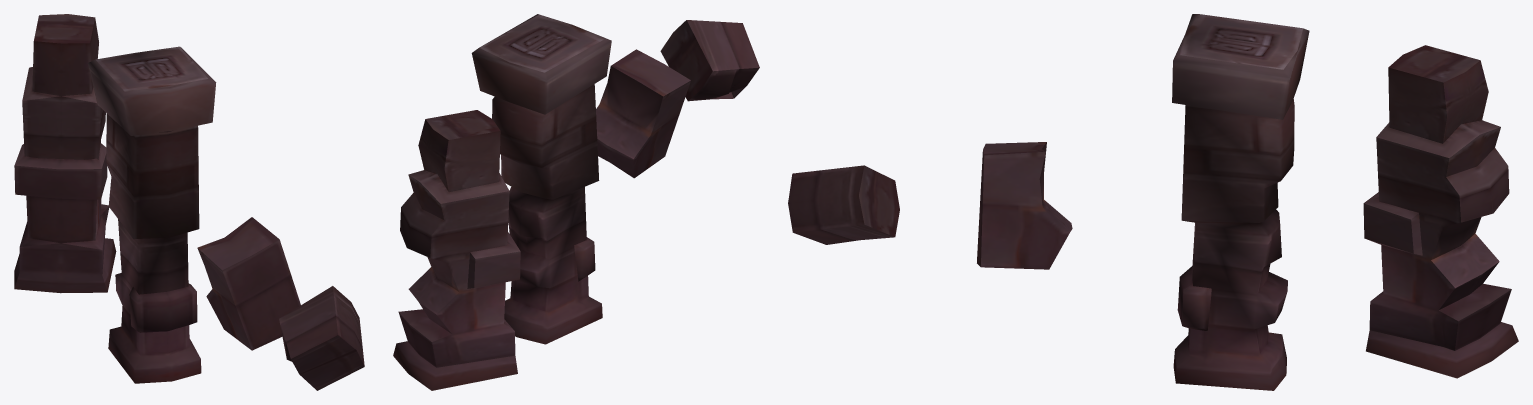
The model's file is FB6_shamozhuzi02.FBX.
3 renders of one model, left to right at view 1: azimuth 30°, elevation 25°; view 2: azimuth 150°, elevation 25°; view 3: azimuth 270°, elevation 25°, orthographic. The views are drawn at different scales.
Parts seen in each view (by area): view 1: FB6_shamozhuzi02_001, FB6_shamozhuzi02_002, FB6_shamozhuzi02_003, FB6_shamozhuzi02_004; view 2: FB6_shamozhuzi02_001, FB6_shamozhuzi02_002, FB6_shamozhuzi02_003, FB6_shamozhuzi02_004; view 3: FB6_shamozhuzi02_001, FB6_shamozhuzi02_002, FB6_shamozhuzi02_003, FB6_shamozhuzi02_004.
Boxes of the visible parts, left/top/right/bottom form: FB6_shamozhuzi02_001: left=87, top=46, right=216, bottom=383; FB6_shamozhuzi02_002: left=14, top=14, right=116, bottom=293; FB6_shamozhuzi02_003: left=197, top=217, right=300, bottom=350; FB6_shamozhuzi02_004: left=279, top=286, right=364, bottom=390; FB6_shamozhuzi02_001: left=471, top=14, right=611, bottom=344; FB6_shamozhuzi02_002: left=393, top=110, right=520, bottom=390; FB6_shamozhuzi02_003: left=596, top=49, right=690, bottom=178; FB6_shamozhuzi02_004: left=660, top=20, right=759, bottom=101; FB6_shamozhuzi02_001: left=1172, top=14, right=1309, bottom=390; FB6_shamozhuzi02_002: left=1363, top=45, right=1518, bottom=378; FB6_shamozhuzi02_003: left=977, top=142, right=1072, bottom=269; FB6_shamozhuzi02_004: left=788, top=165, right=899, bottom=244.
Size of the model in its own units: 298 by 712 by 1413.
Materials: 1 (1 with a texture image).
